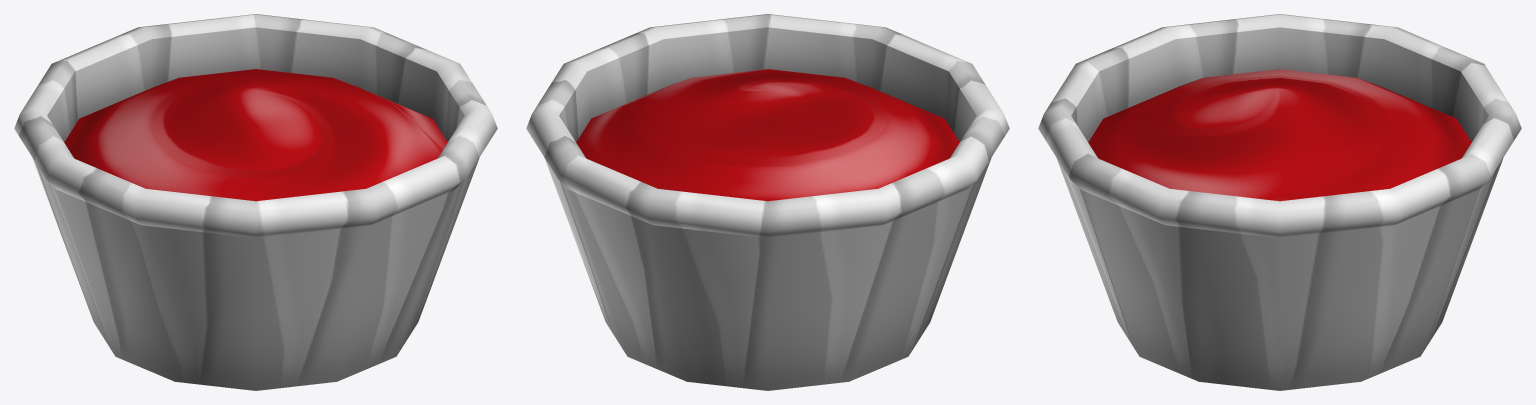
The model's file is Ketchup_Cup.fbx.
3 views of the same model, side by side, from view 1: azimuth 30°, elevation 25°; view 2: azimuth 150°, elevation 25°; view 3: azimuth 270°, elevation 25° (orthographic).
Visible parts, largest first — view 1: Ketchup_Cup; view 2: Ketchup_Cup; view 3: Ketchup_Cup.
Part boxes in pixels (<box>): Ketchup_Cup: <box>14,14,497,390</box>; Ketchup_Cup: <box>526,14,1009,390</box>; Ketchup_Cup: <box>1038,14,1521,390</box>.
Size of the model in its own units: 37.45 by 19.86 by 37.45.
